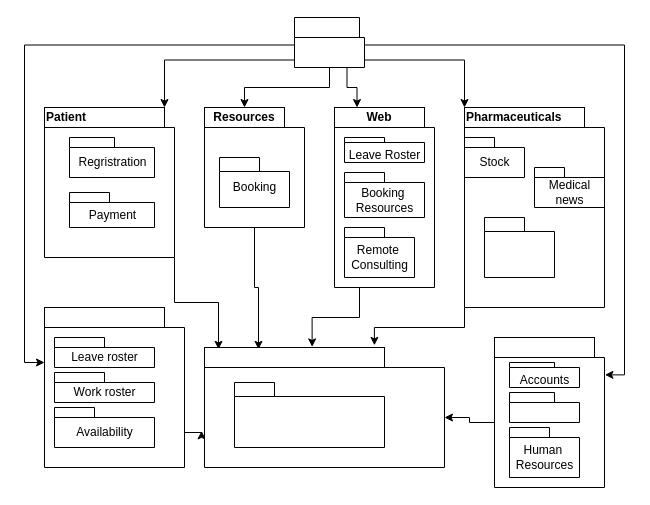
This 650x505 diagram has some shape labels left out. Each missing label, with the box of its shape:
Consulations: (234, 382, 384, 448)
Database: (204, 346, 384, 368)
Dispense drugs: (484, 216, 554, 278)
GUI: (294, 16, 364, 68)
Management: (494, 336, 594, 358)
Reports: (508, 392, 580, 422)
Staff: (44, 306, 164, 328)
